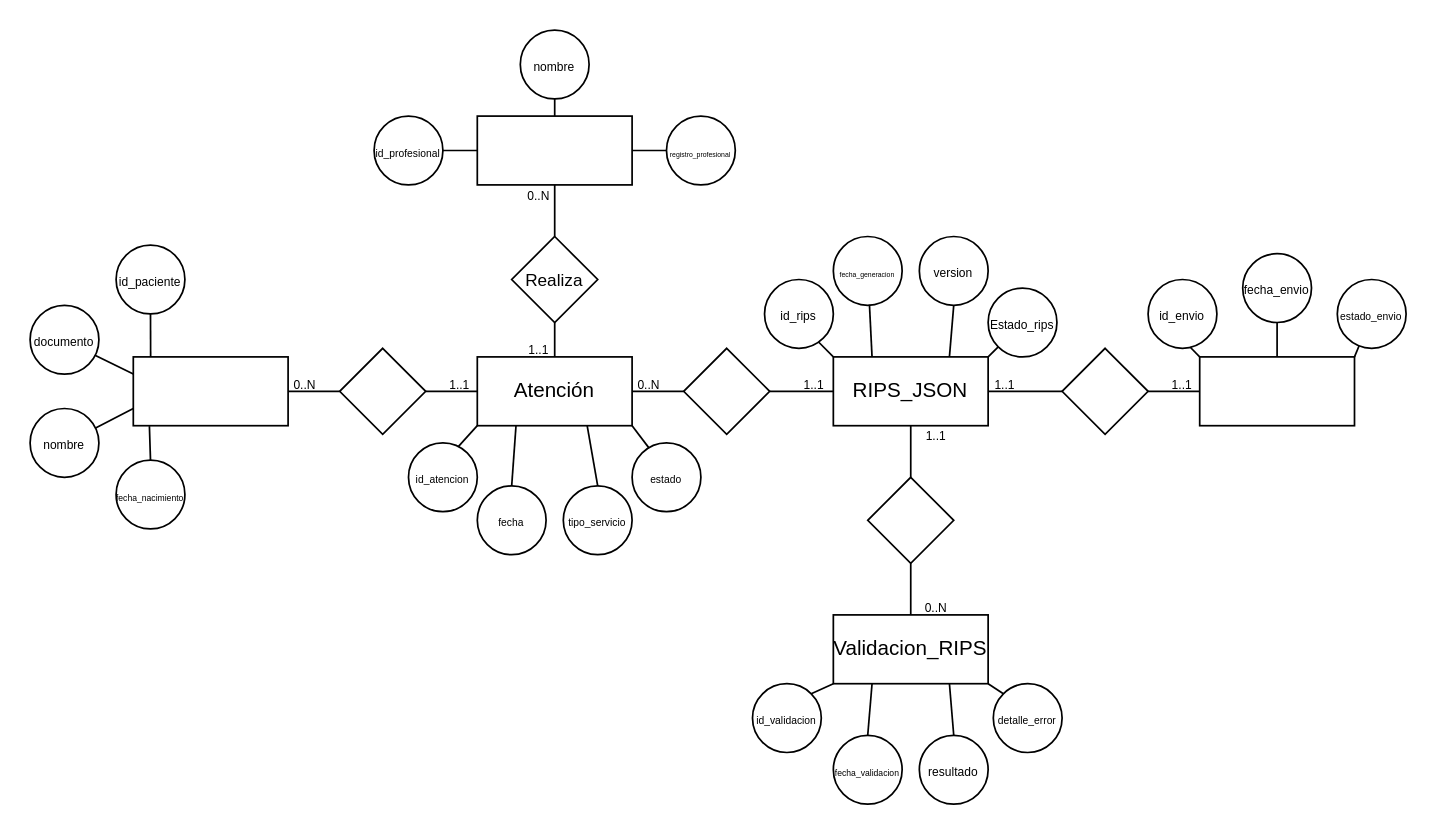
Image size: 1436x834. Some labels were removed from this diagram. Each missing label, with the centre of its shape:
"Alimenta" belongs at point (726, 390).
"Envio_RIPS" belongs at point (1276, 390).
"Paciente" belongs at point (210, 390).
"Profesional" belongs at point (554, 149).
"Recibe" belongs at point (382, 390).
"Se envía en" belongs at point (1104, 390).
"Se valida en" belongs at point (910, 519).
